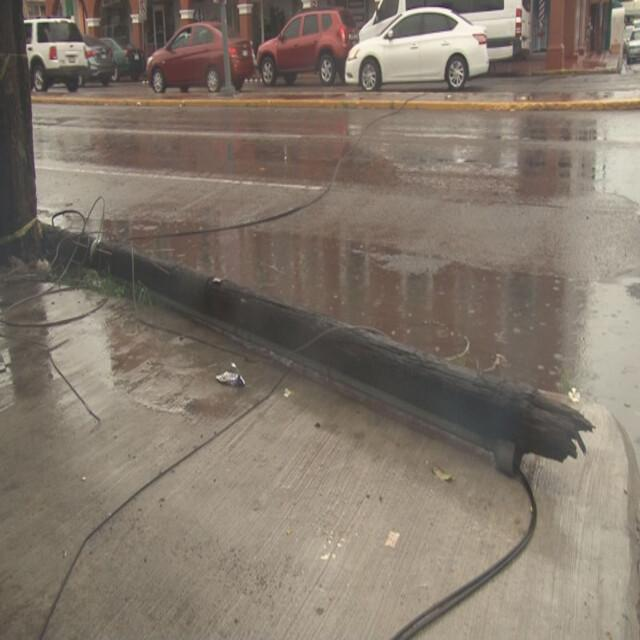Inclined Pole: (32, 211, 596, 479)
